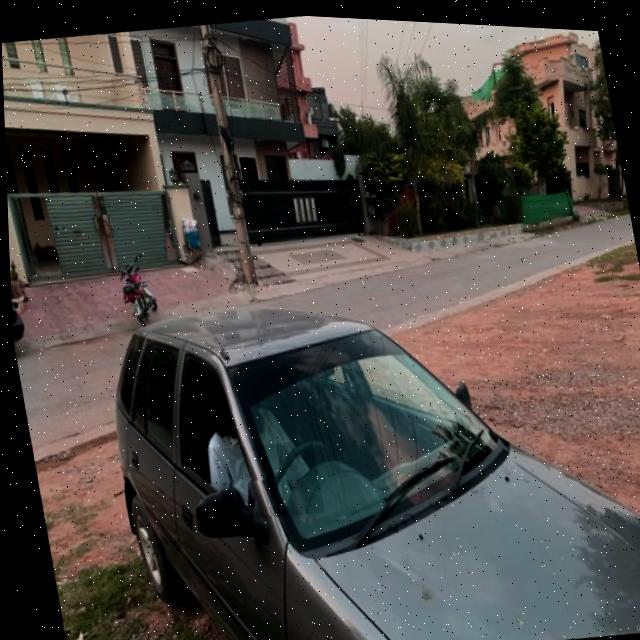no-seatbelt: (209, 433, 320, 522)
